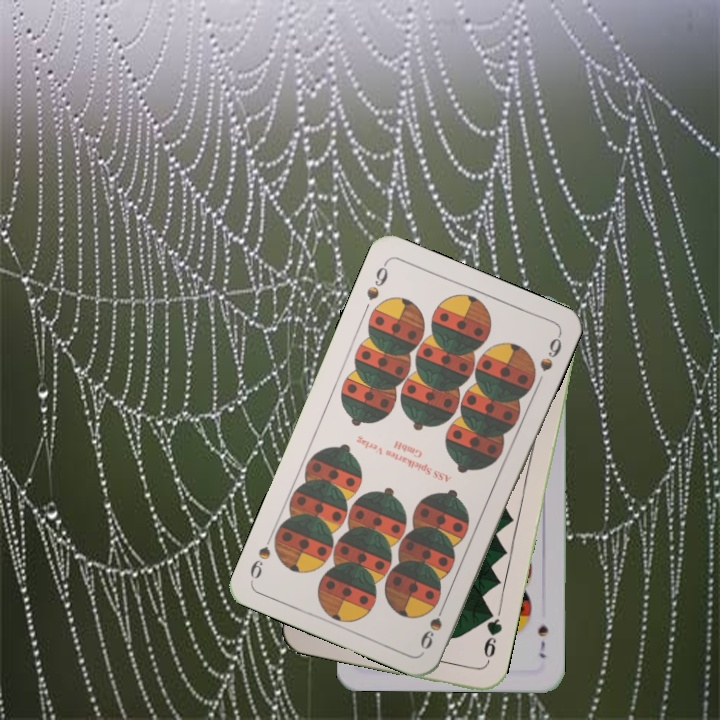G9: (479, 608, 505, 668)
S7: (534, 621, 551, 661)
S9: (416, 597, 449, 652), (362, 258, 391, 303)
